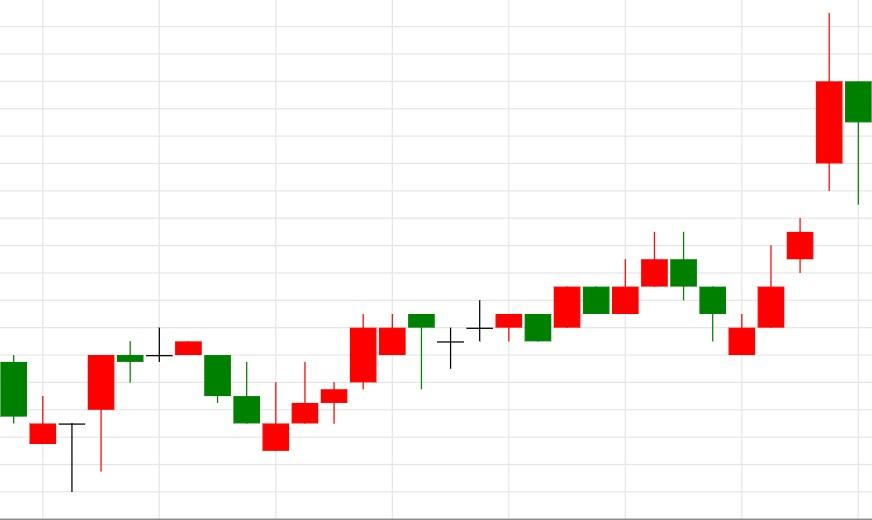bearish_engulfing_fall: (524, 233, 698, 342)
three_white_soldiers_rise: (640, 217, 814, 356), (175, 340, 349, 450)
